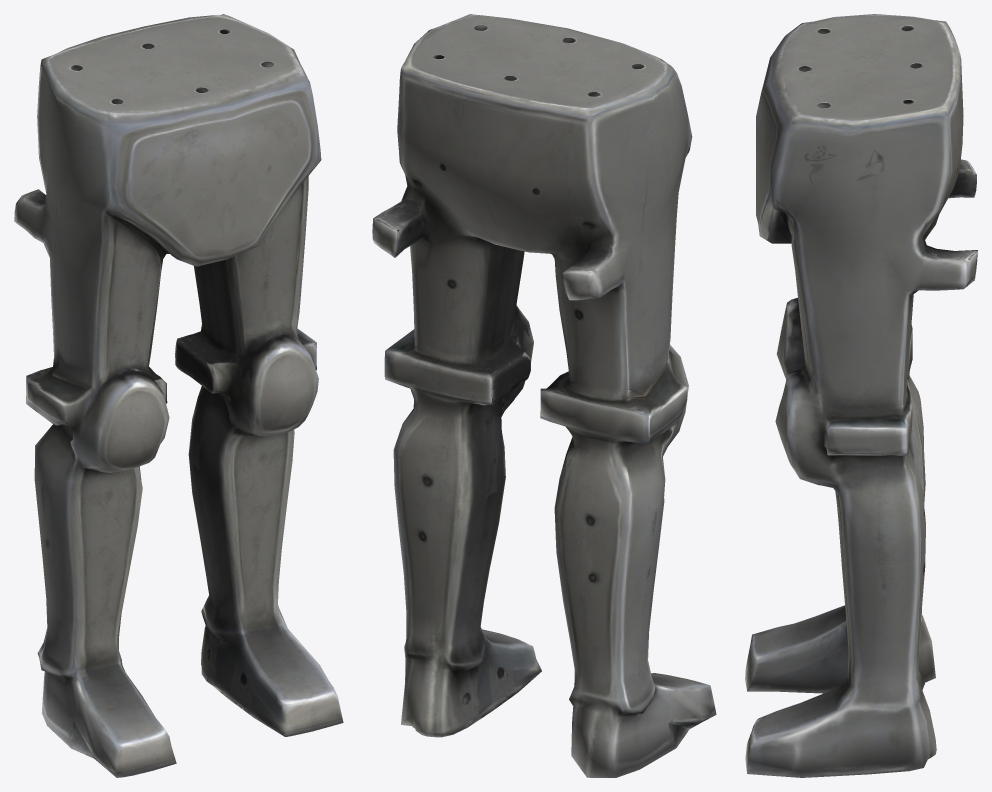
The model's file is legs-metal-steel_backup.glb.
The picture shows the model from 3 angles, left to right: view 1: azimuth 30°, elevation 25°; view 2: azimuth 150°, elevation 25°; view 3: azimuth 270°, elevation 25°; orthographic projection. The views are drawn at different scales.
Size of the model in its own units: 0.8227 by 2 by 0.646.
1 material, 1 textured.
